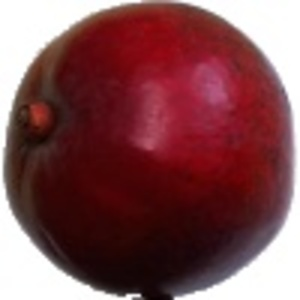manga: (4, 1, 297, 300)
